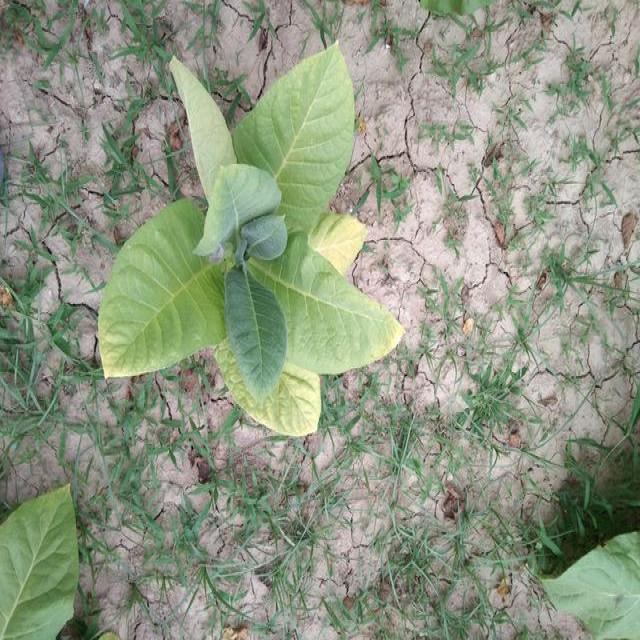crop: (95, 30, 408, 439)
